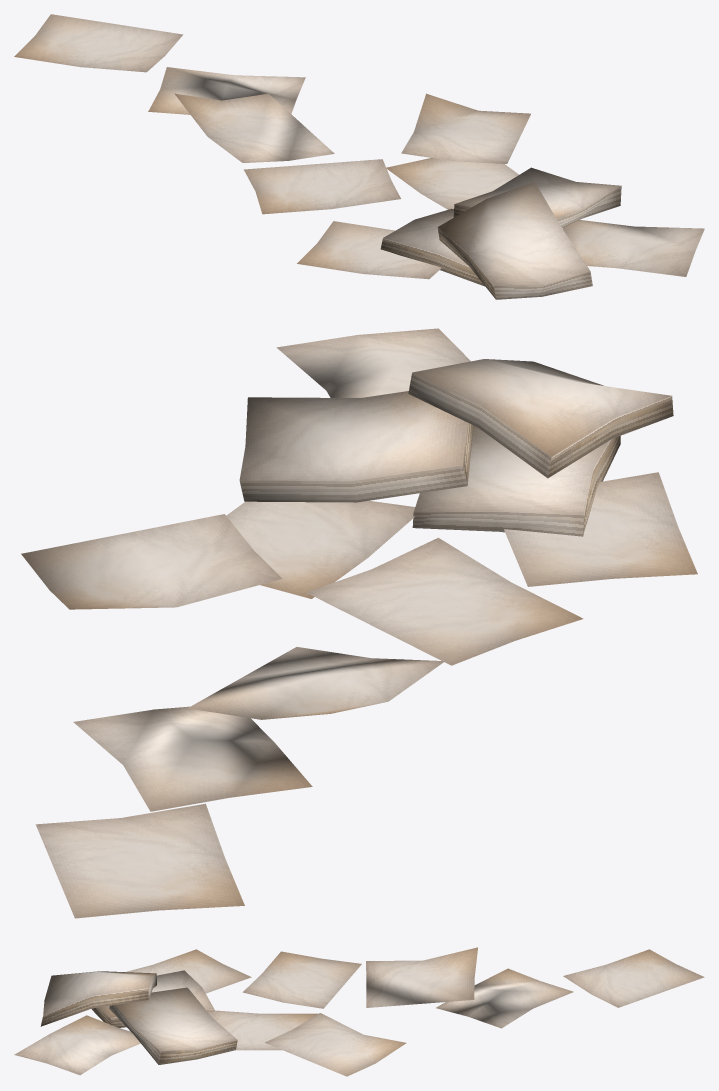
File: a_paper01.glb
3 renders of one model, top to bottom at view 1: azimuth 30°, elevation 25°; view 2: azimuth 150°, elevation 25°; view 3: azimuth 270°, elevation 25°, orthographic. The views are drawn at different scales.
Visible parts, largest first — view 1: a_paper01; view 2: a_paper01; view 3: a_paper01.
Part boxes in pixels (x1,y1,x2,y2): a_paper01: (14, 14, 704, 299); a_paper01: (21, 328, 697, 918); a_paper01: (14, 947, 704, 1076).
Bounding box in the file's own units: 1.16 × 0.1924 × 2.58.
1 material, 1 textured.
